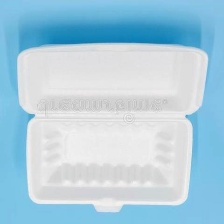foam_box: (11, 36, 211, 217)
